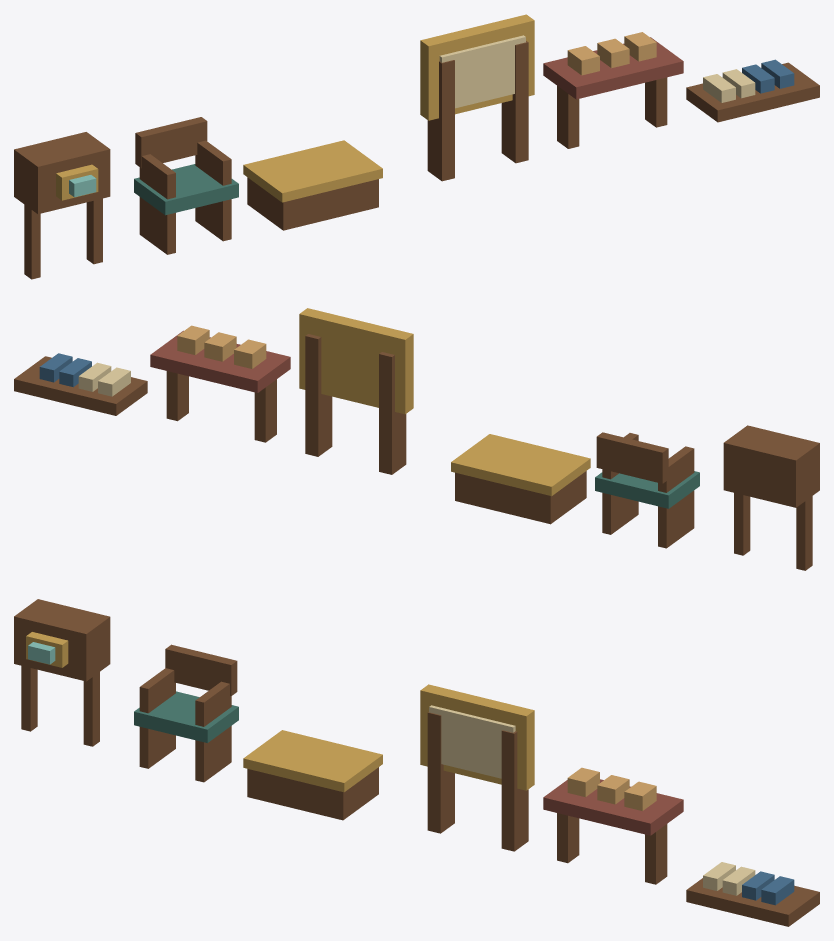
Rendered from fon-navia-photo-model.obj.
The picture shows the model from 3 angles, top to bottom: view 1: azimuth 30°, elevation 25°; view 2: azimuth 150°, elevation 25°; view 3: azimuth 330°, elevation 25°; orthographic projection.
Visible parts, largest first — view 1: PhotoTerrace; view 2: PhotoTerrace; view 3: PhotoTerrace.
Part boxes in pixels (x1=…): PhotoTerrace: x1=14, y1=14, x2=819, y2=279; PhotoTerrace: x1=14, y1=308, x2=819, y2=570; PhotoTerrace: x1=14, y1=599, x2=819, y2=926.
Size of the model in its own units: 6.01 by 1 by 0.57.
